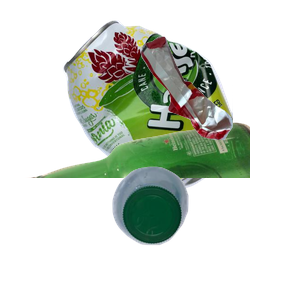glass: (23, 120, 263, 300)
metal: (60, 18, 300, 198)
plastic: (110, 164, 300, 300)
trash: (139, 34, 300, 167)
